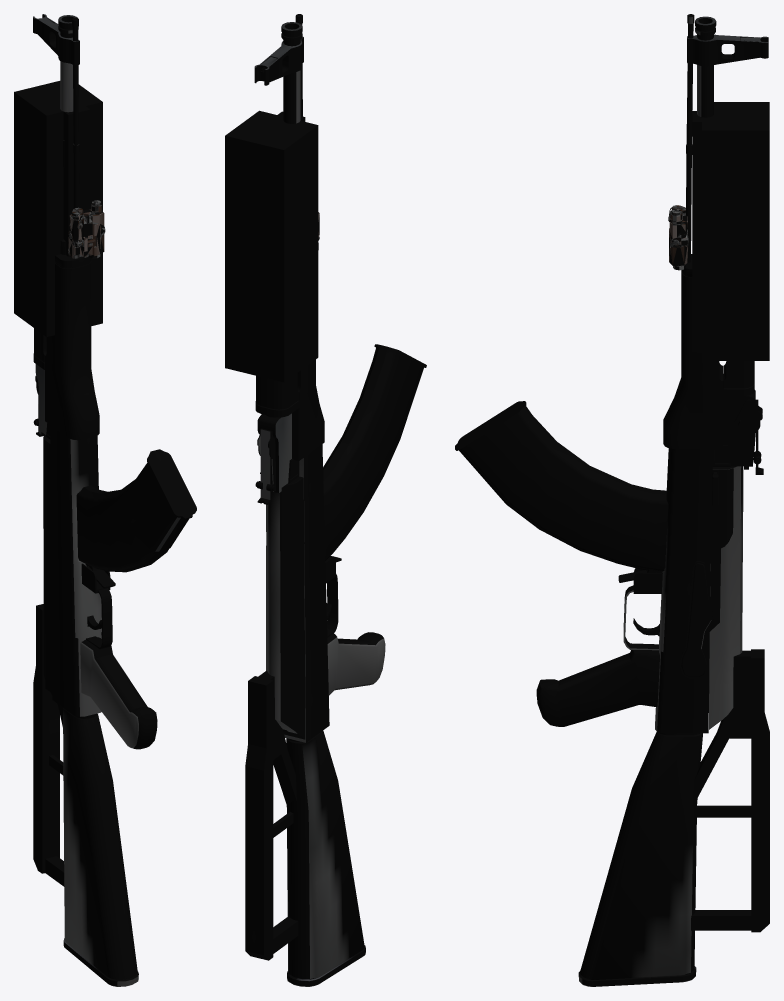
The model's file is AK47__Handguard_AK_Quad__Laser_Pistol__Stock_AK_Folding.fbx.
The picture shows the model from 3 angles, left to right: view 1: azimuth 30°, elevation 25°; view 2: azimuth 150°, elevation 25°; view 3: azimuth 270°, elevation 25°; orthographic projection. The views are drawn at different scales.
Visible parts, largest first — view 1: asset_AK47.001; view 2: asset_AK47.001; view 3: asset_AK47.001.
Part boxes in pixels (box(x1,y1,x2,y2)): asset_AK47.001: box(14, 14, 196, 986); asset_AK47.001: box(225, 14, 426, 986); asset_AK47.001: box(455, 14, 769, 986).
Bounding box in the file's own units: 0.0336 × 0.528 × 0.1561.
